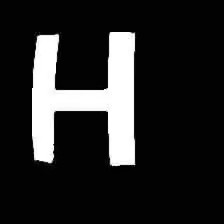LTR_H: (22, 21, 141, 169)
